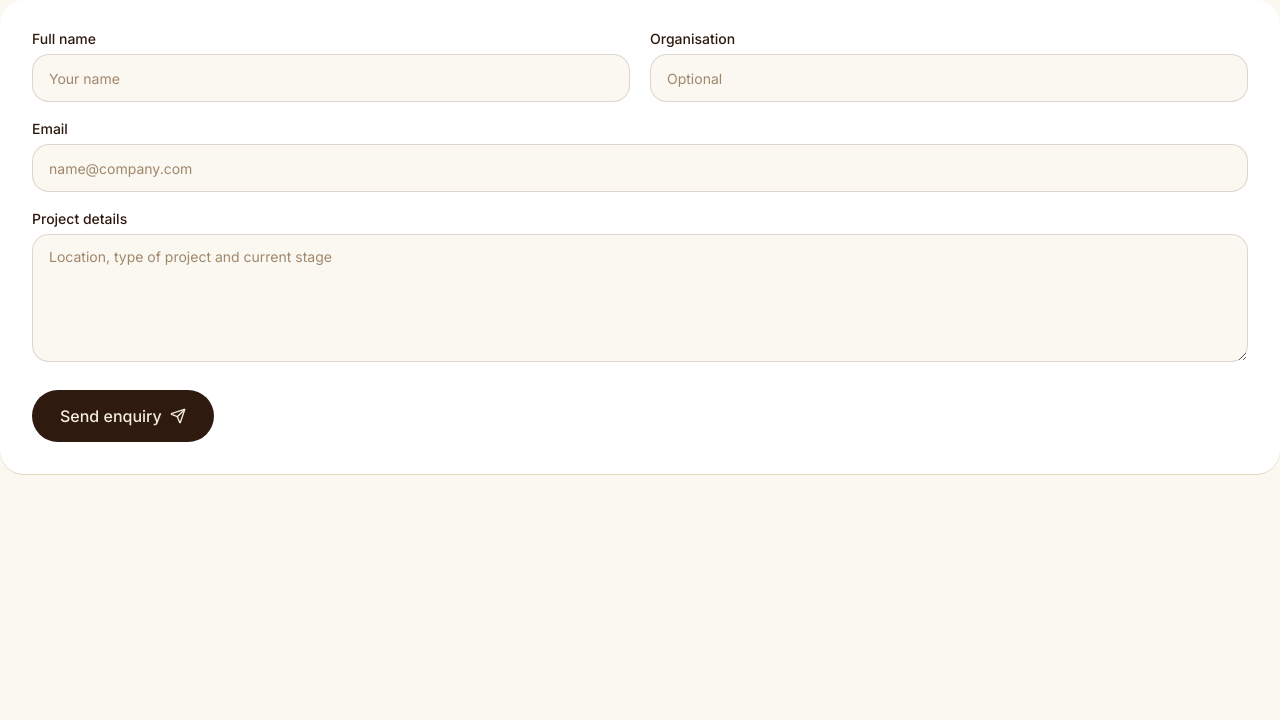
EnquiryForm › rejects a malformed email address
This screenshot has width=1280, height=720.
Type "Mariam Al Mansoori" into the field labelled "Full name" at point(331, 78), box [32,54,630,102]
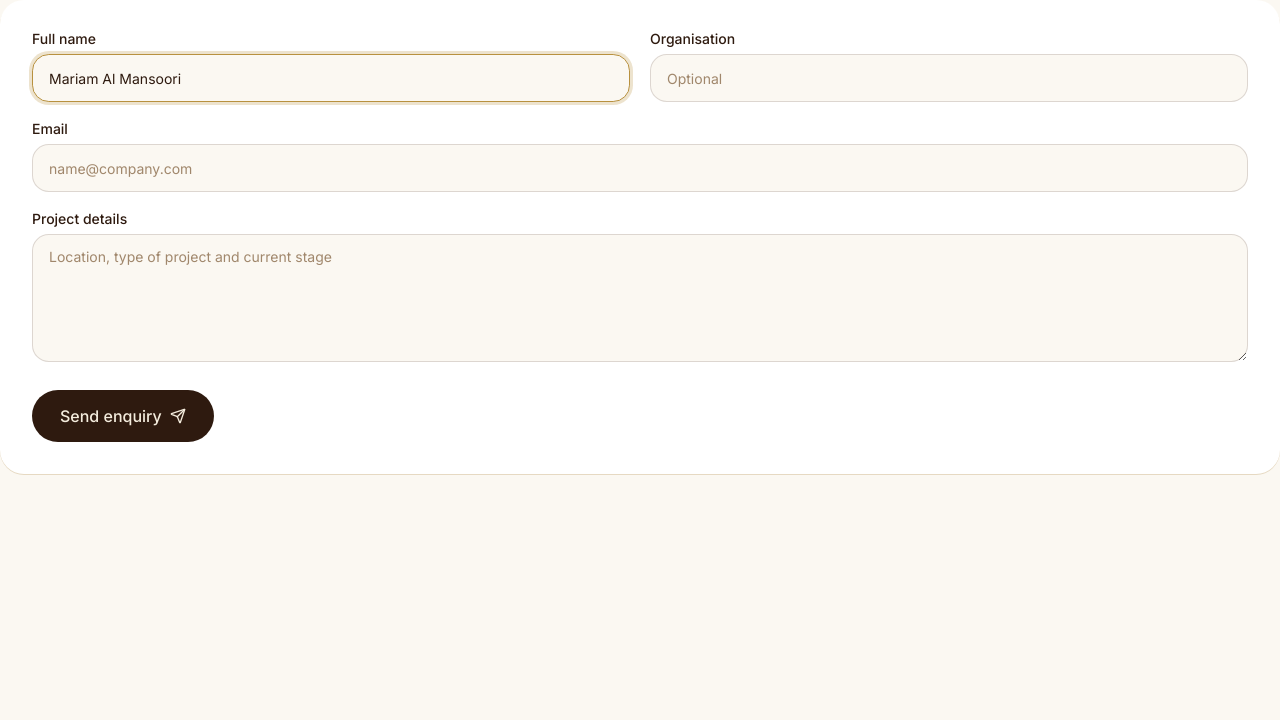
Type "mariam@" into the field labelled "Email" at point(640, 168), box [32,144,1248,192]
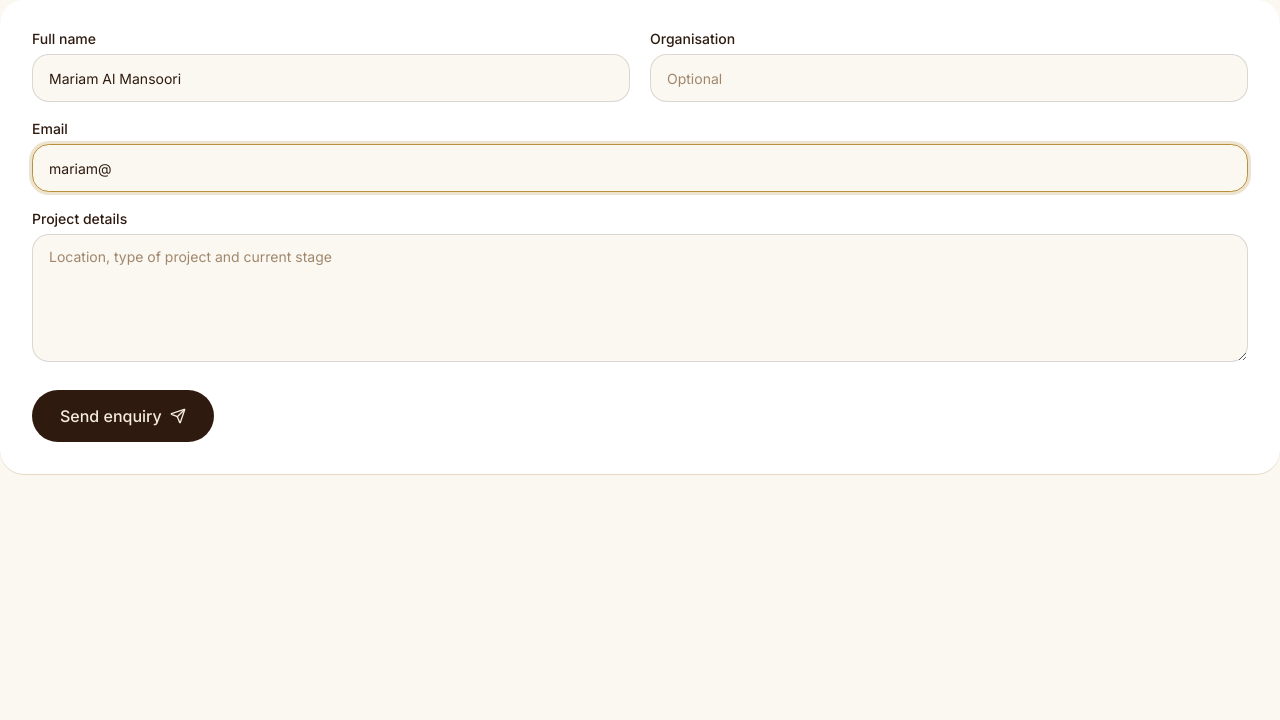
Type "Villa estate in Al Ain, concept stage." into the text box labelled "Project details" at point(640, 298), box [32,234,1248,362]
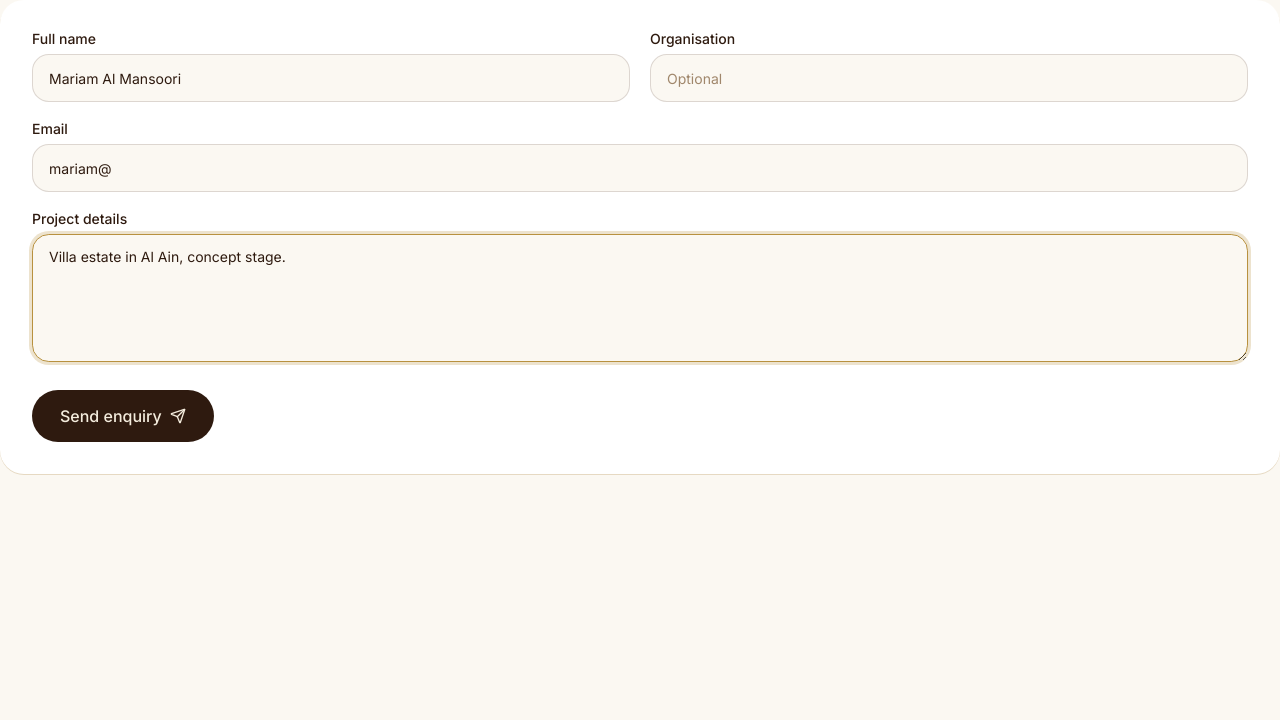
Click the button "Send enquiry" at point(123, 416), box [32,390,214,442]
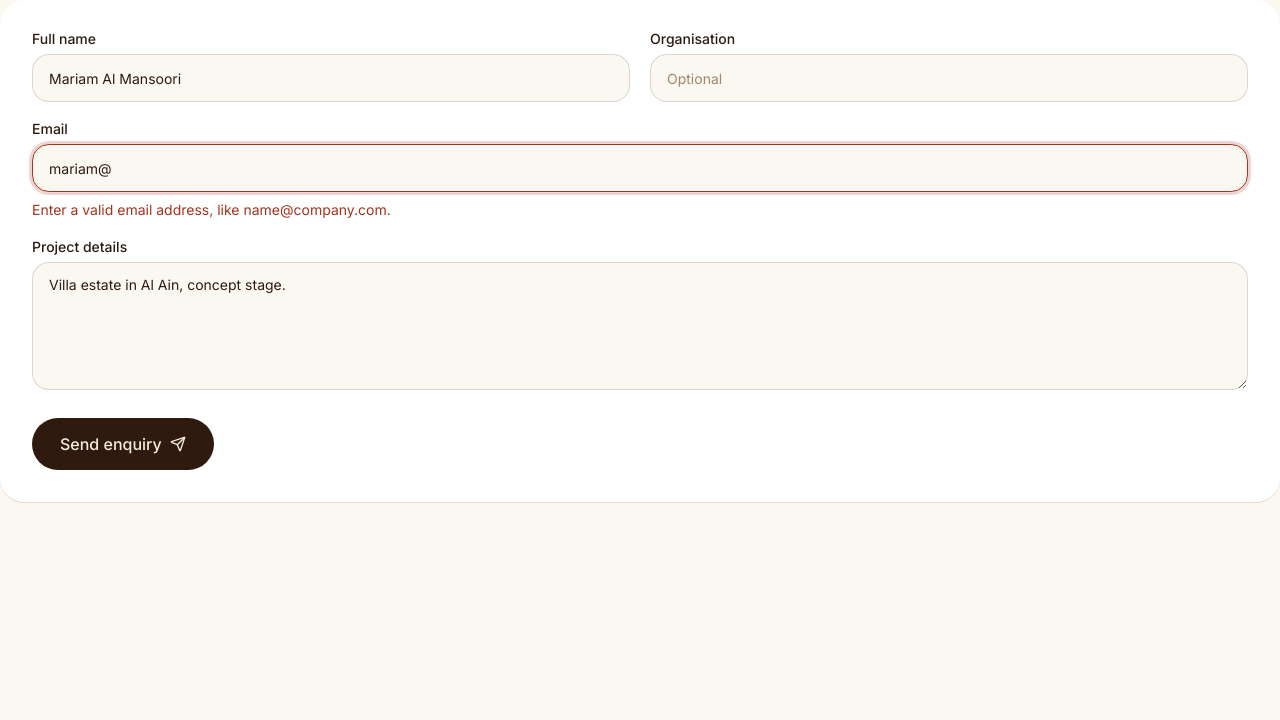
Check: the text "Enter a valid email address, like name@company.com." is shown, box [32,201,391,218]
